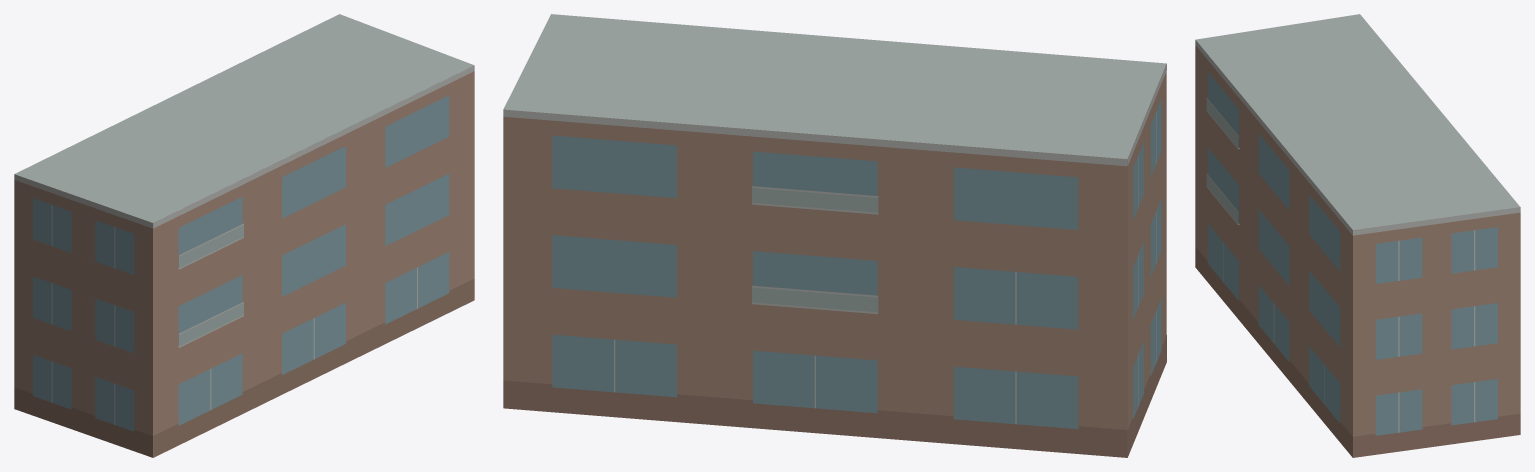
The model's file is survey-upis-32611944.glb.
The picture shows the model from 3 angles, left to right: view 1: azimuth 30°, elevation 25°; view 2: azimuth 150°, elevation 25°; view 3: azimuth 270°, elevation 25°; orthographic projection. The views are drawn at different scales.
Parts seen in each view (by area): view 1: survey-upis-32611944.tmp; view 2: survey-upis-32611944.tmp; view 3: survey-upis-32611944.tmp.
Boxes of the visible parts, <box> form: survey-upis-32611944.tmp: <box>14,14,474,457</box>; survey-upis-32611944.tmp: <box>503,14,1166,457</box>; survey-upis-32611944.tmp: <box>1195,14,1520,457</box>.
Size of the model in its own units: 20.78 by 10.2 by 13.21.
